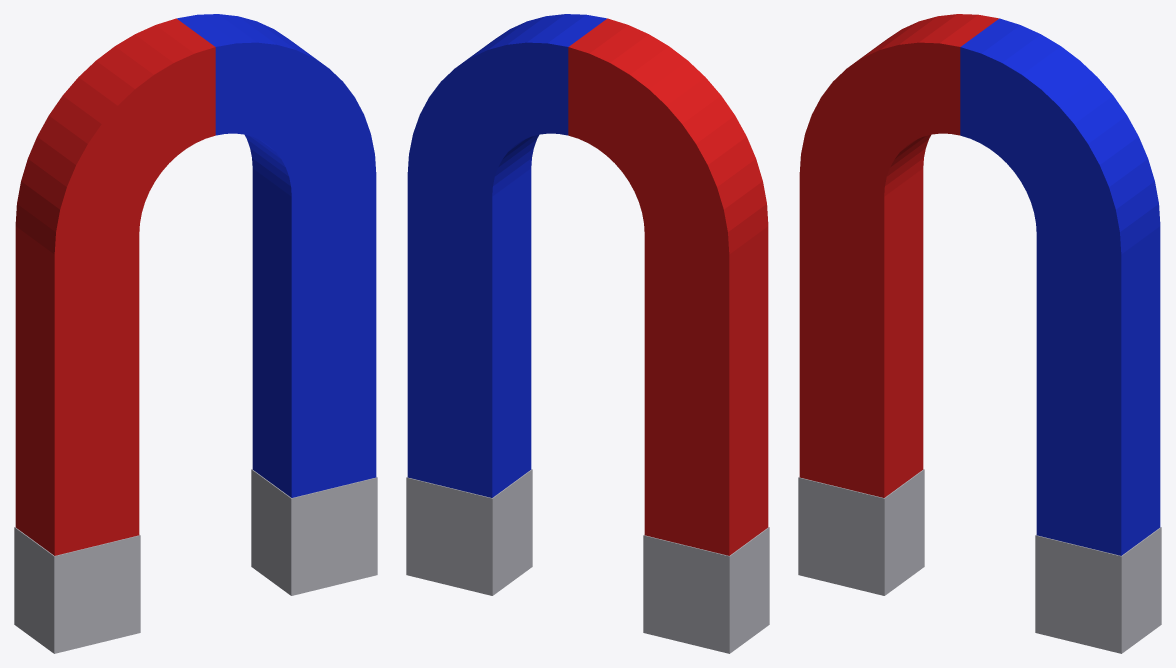
Rendered from Magnet.fbx.
3 views of the same model, side by side, from view 1: azimuth 30°, elevation 25°; view 2: azimuth 150°, elevation 25°; view 3: azimuth 330°, elevation 25° (orthographic).
Parts seen in each view (by area): view 1: ArmR, ArmL, ArcL, ArcR, TipL, TipR; view 2: ArmR, ArmL, ArcL, ArcR, TipL, TipR; view 3: ArmL, ArmR, ArcR, ArcL, TipR, TipL.
Boxes of the visible parts, x1,y1,x2,y2 form: ArmR: (252, 168, 376, 497); ArmL: (15, 226, 139, 555); ArcL: (15, 18, 215, 254); ArcR: (177, 14, 376, 196); TipL: (14, 527, 140, 653); TipR: (251, 469, 377, 595); ArmR: (407, 168, 531, 497); ArmL: (644, 226, 768, 555); ArcL: (568, 18, 768, 254); ArcR: (407, 14, 606, 196); TipL: (643, 527, 769, 653); TipR: (406, 469, 532, 595); ArmL: (799, 168, 923, 497); ArmR: (1036, 226, 1160, 555); ArcR: (960, 18, 1160, 254); ArcL: (799, 14, 998, 196); TipR: (1035, 527, 1161, 653); TipL: (798, 469, 924, 595).
Size of the model in its own units: 38.2 by 64 by 8.2.
Materials: 3 (3 with a texture image).
